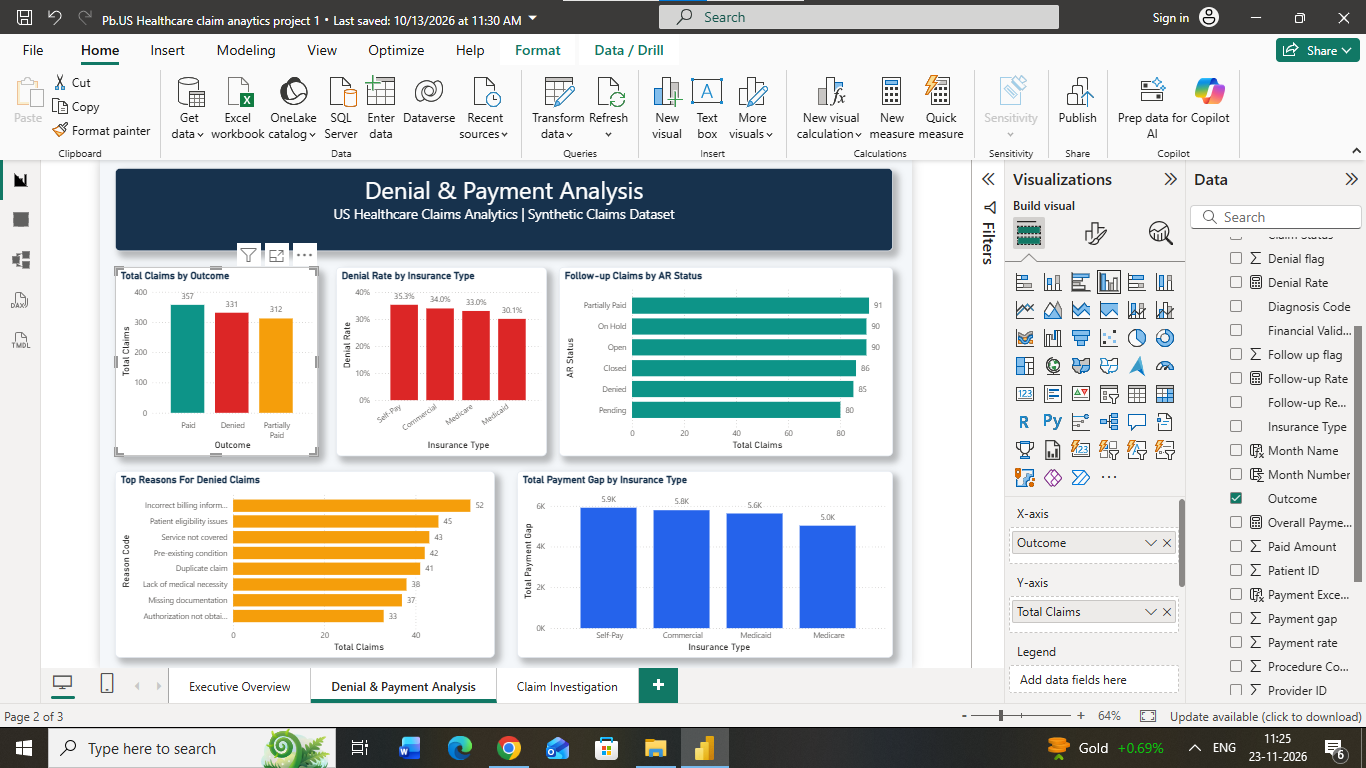

Layout of this report page (visuals, bound fields, positions):
{"tool":"powerbi","page":{"name":"Denial & Payment Analysis","canvas":[1280,800],"ordinal":1},"visuals":[{"type":"clusteredColumnChart","fields":{"Category":["claim_data.Outcome"],"Y":["claim_data.Total Claims"]},"box":[23.6,168.5,319.7,297.6],"z":0},{"type":"clusteredBarChart","title":"Top Reasons For Denied Claims","fields":{"Category":["claim_data.Reason Code"],"Y":["claim_data.Total Claims"]},"box":[23.6,489.8,598.4,294.5],"z":1000},{"type":"clusteredColumnChart","fields":{"Category":["claim_data.Insurance Type"],"Y":["claim_data.Denial Rate"]},"box":[371.7,168.5,332.3,297.6],"z":2000},{"type":"clusteredColumnChart","fields":{"Category":["claim_data.Insurance Type"],"Y":["claim_data.Total Payment Gap"]},"box":[656.7,489.8,592.1,294.5],"z":3000},{"type":"clusteredBarChart","title":"Follow-up Claims by AR Status","fields":{"Category":["claim_data.AR Status"],"Y":["claim_data.Total Claims"]},"box":[722.8,168.5,526,297.6],"z":4000},{"type":"textbox","box":[23.6,12.6,1225.2,130.7],"z":5000}]}

Visuals, with their boxes on the page's 1280x800 design canvas (x1, y1, x2, y2). These are canvas units, not pixel positions in the 1366x768 screenshot, which may show the page scaled, cropped or inside an application window:
clusteredColumnChart - claim_data.Outcome x claim_data.Total Claims: 24, 168, 343, 466
"Top Reasons For Denied Claims" clusteredBarChart: 24, 490, 622, 784
clusteredColumnChart - claim_data.Insurance Type x claim_data.Denial Rate: 372, 168, 704, 466
clusteredColumnChart - claim_data.Insurance Type x claim_data.Total Payment Gap: 657, 490, 1249, 784
"Follow-up Claims by AR Status" clusteredBarChart: 723, 168, 1249, 466
textbox: 24, 13, 1249, 143
